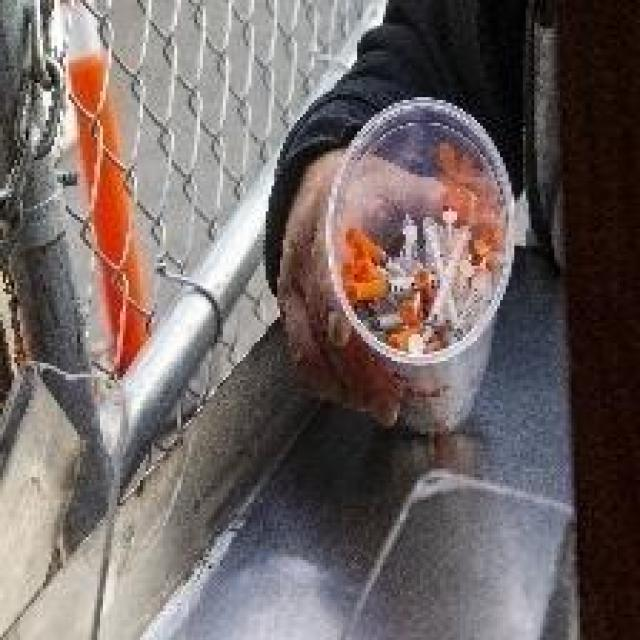syringe: (342, 156, 516, 361)
